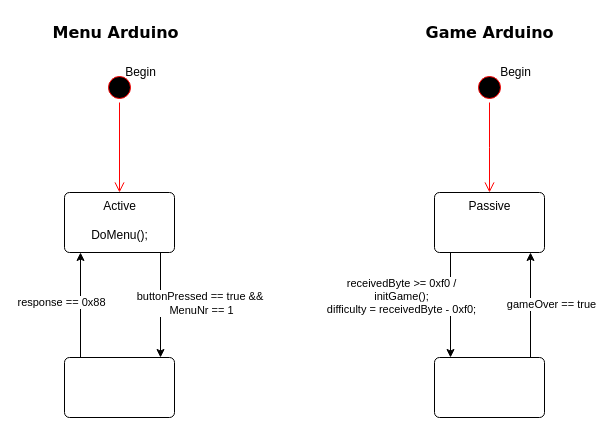
Image size: 613x435. Some labels were removed from this diagram. The centre of each missing label's shape, as x and y in pixels:
Active PlayGame();: the point at 489,387
Passive DoPassiveMode();: the point at 119,387
